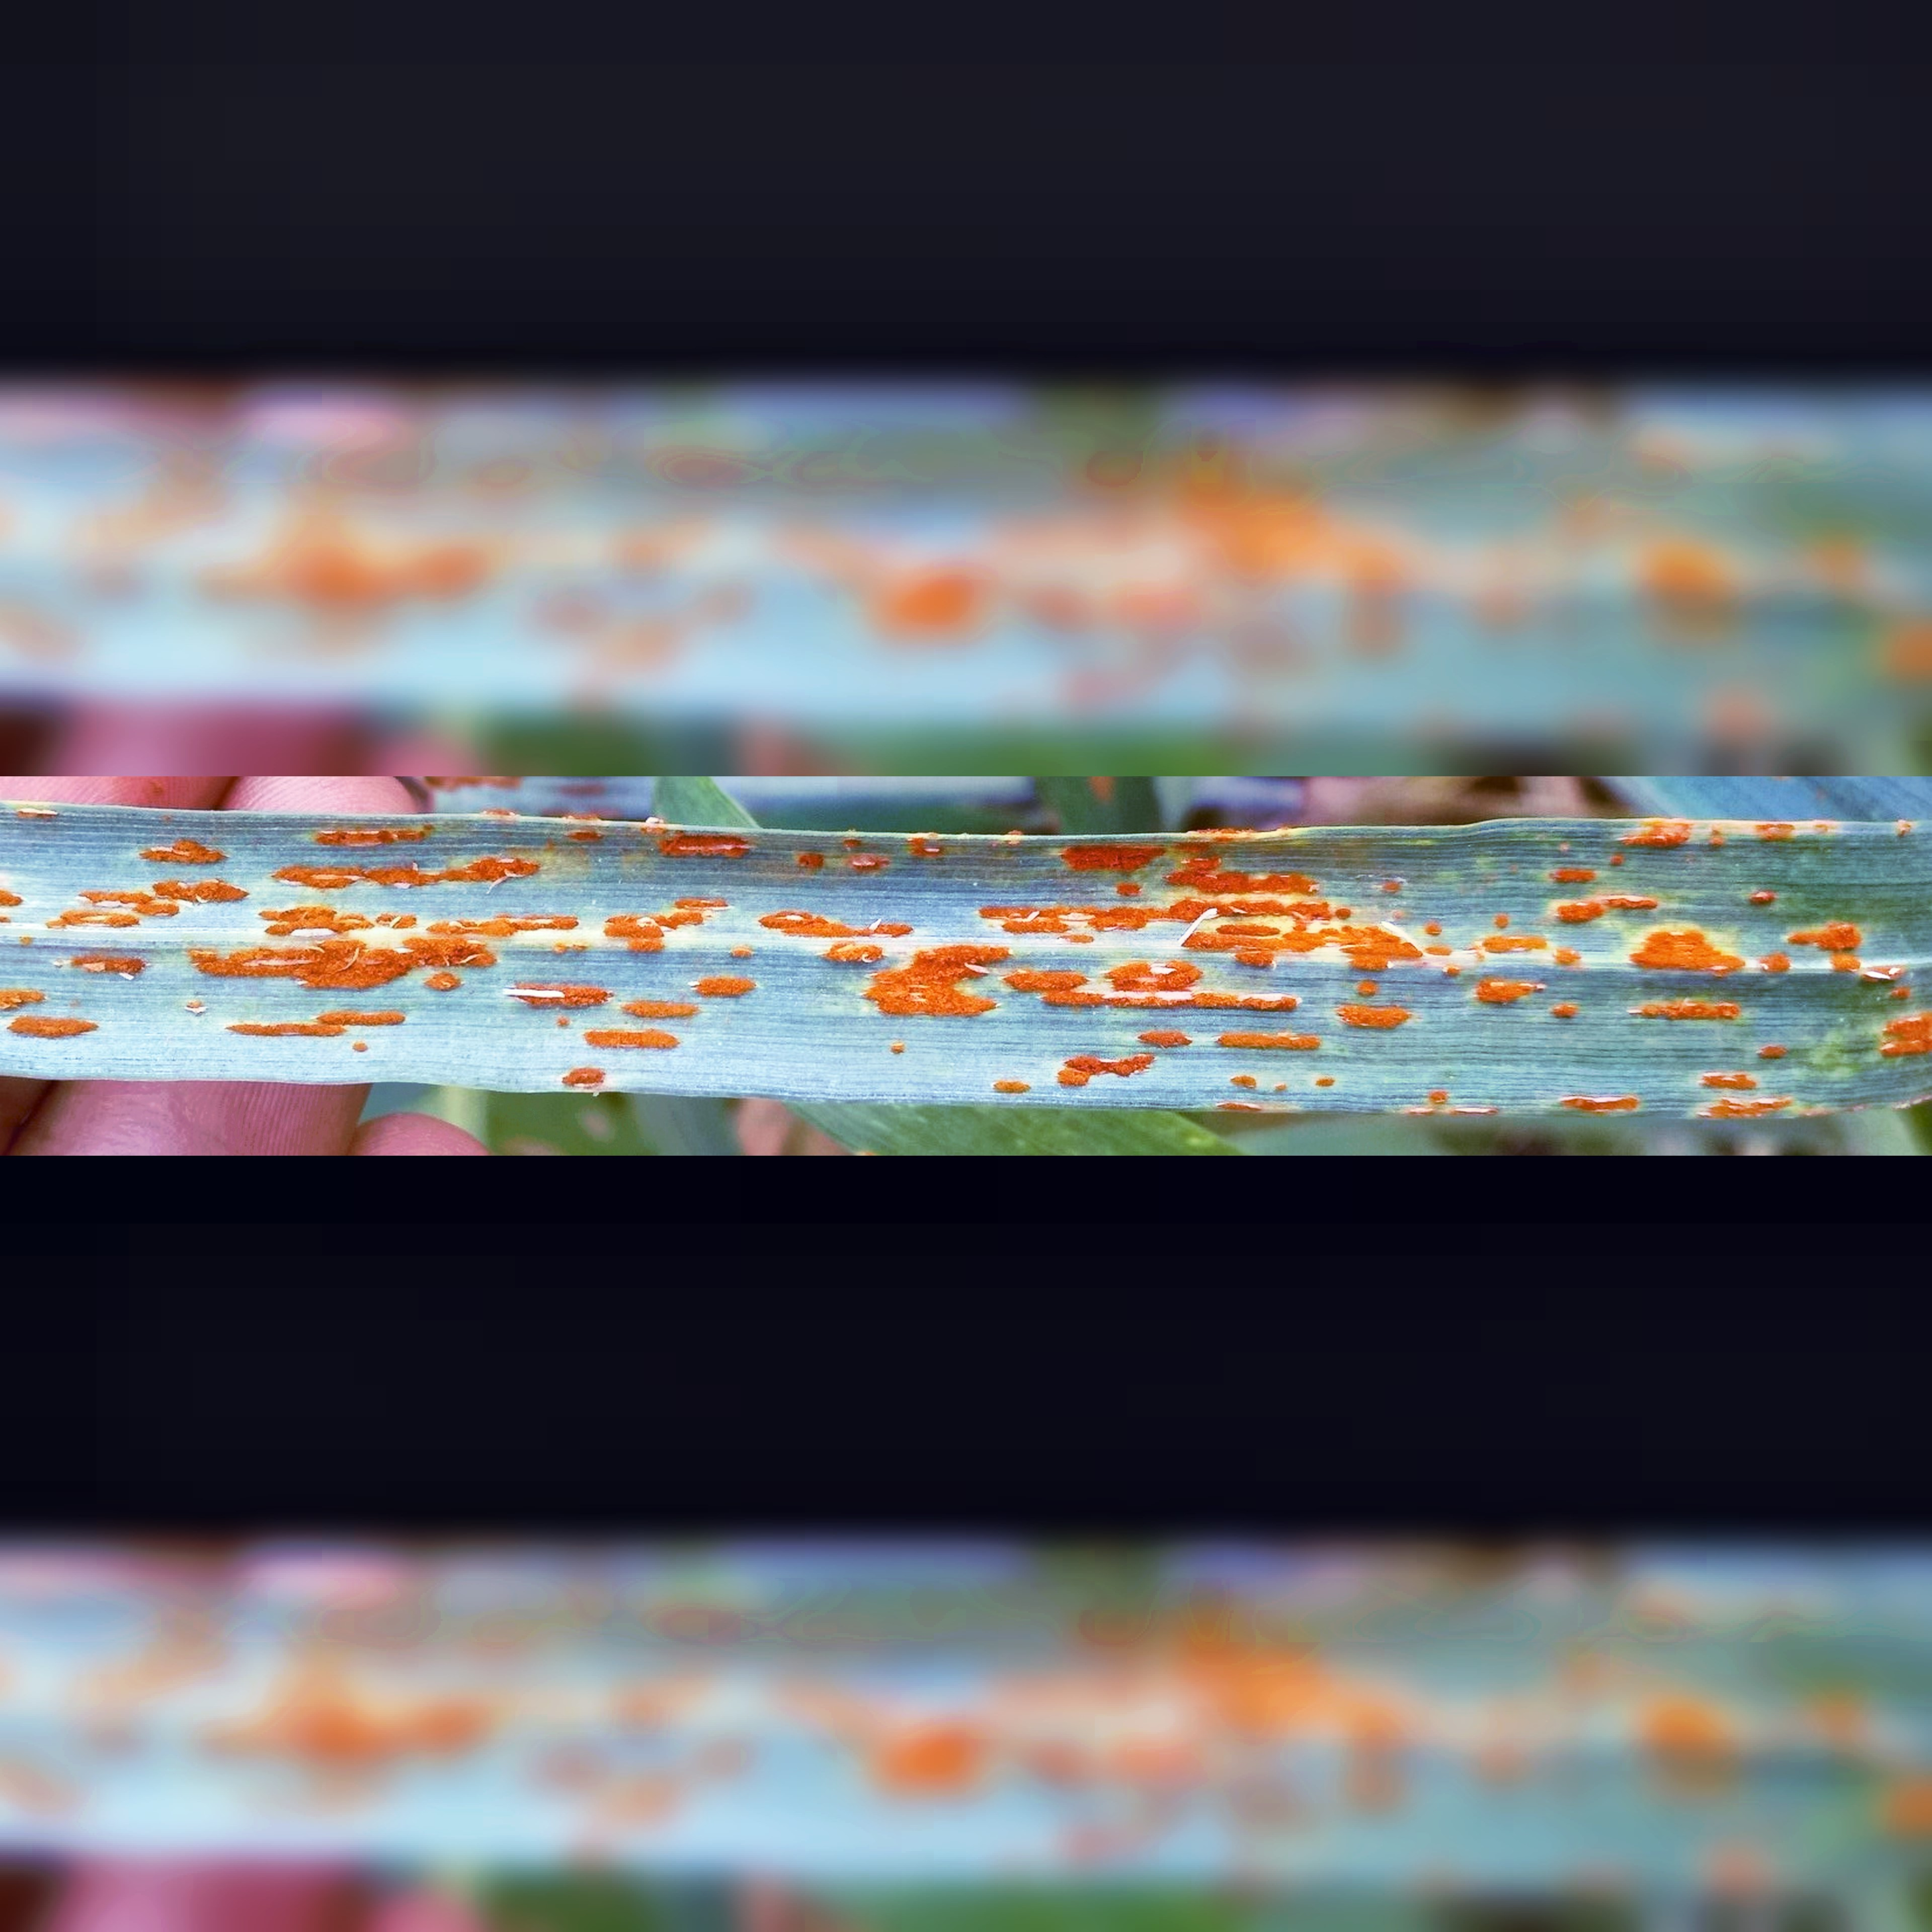Leaf Rust: (87, 807, 1861, 1127)
